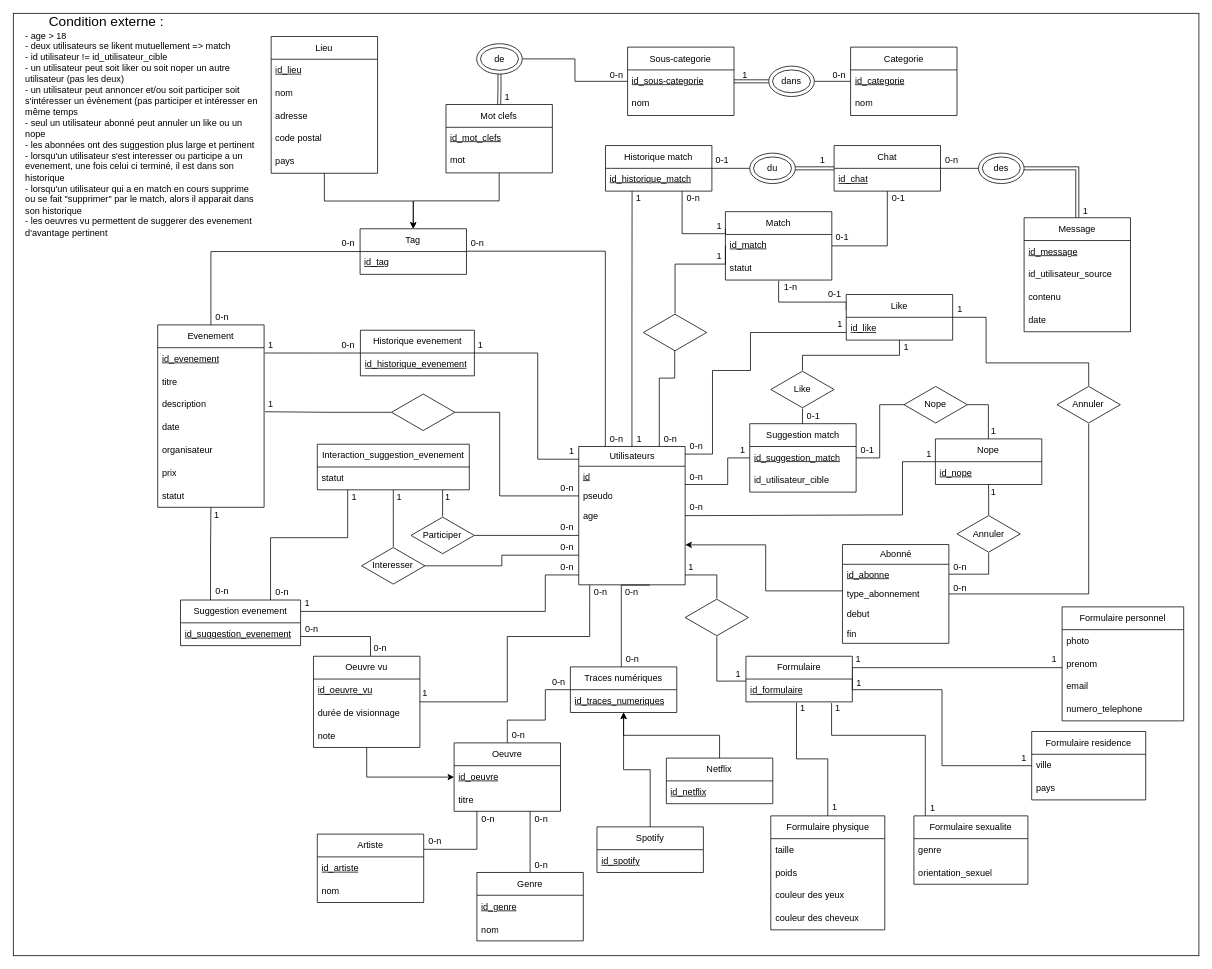
Image size: 1212x969. Some labels were removed from this diagram. Each missing label, with the centre of its shape:
"Annoncer" goes at point (423, 412).
"Inscription" goes at point (716, 617).
"Supprimer" goes at point (675, 332).
